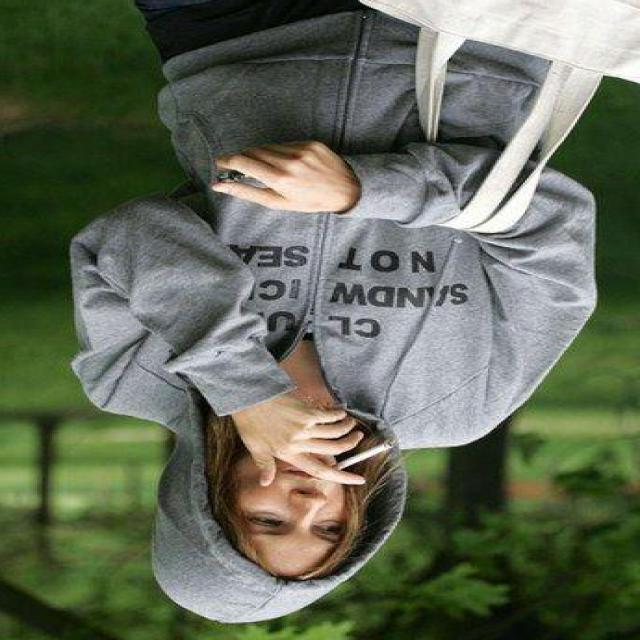cigarette: (319, 426, 416, 479)
